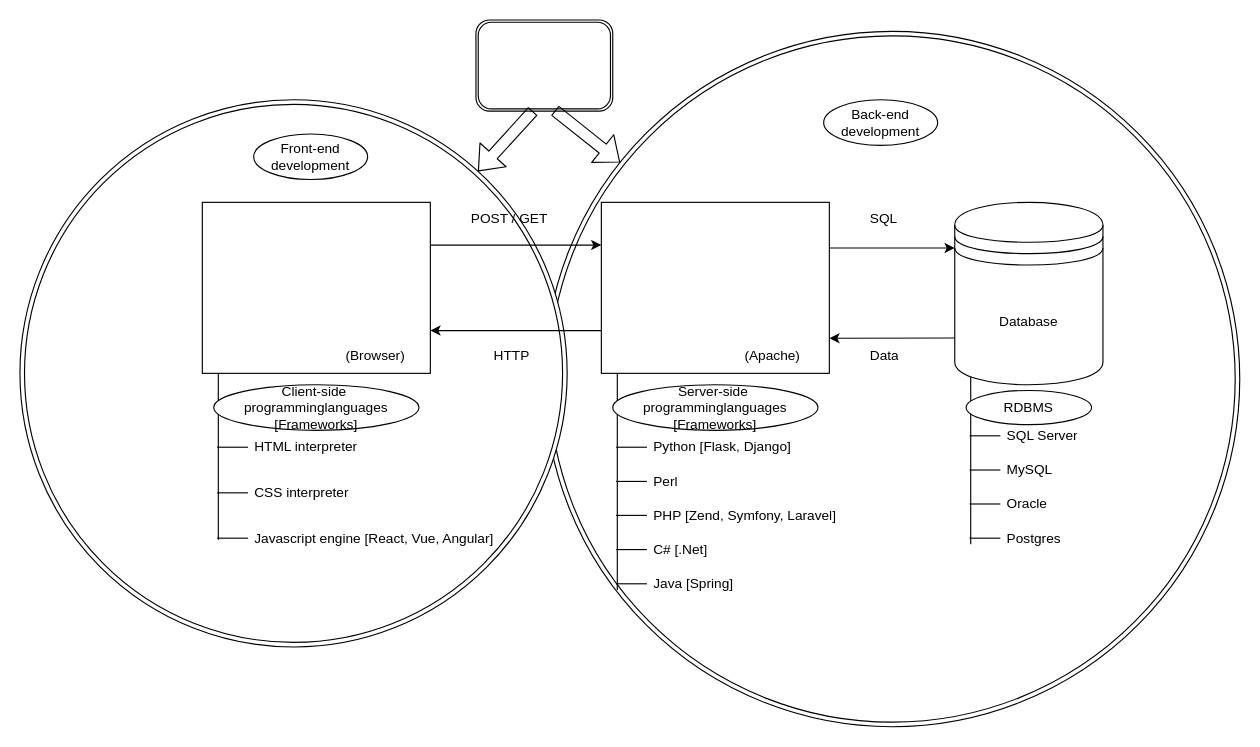
Image size: 1260x747. Some labels were removed from this diagram. Here are the shapes that lost their labels. From the top down, the box of each, then its label:
(475, 19, 613, 111): Full-stack development
(201, 201, 430, 373): Client
(600, 201, 829, 373): Web server
